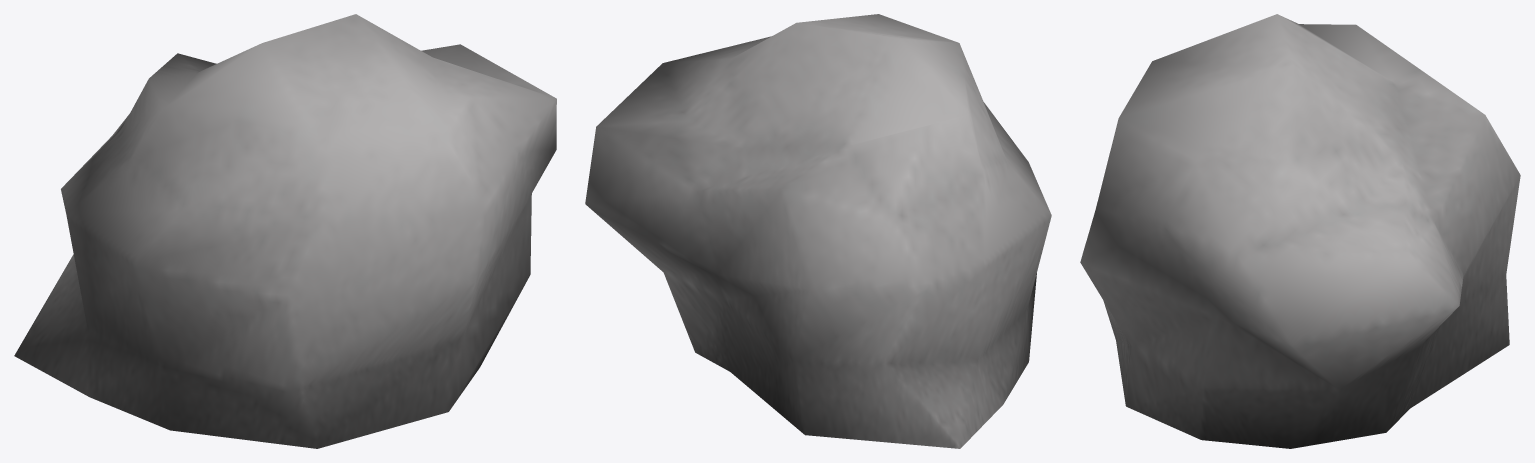
The model's file is Rock_05.fbx.
3 renders of one model, left to right at view 1: azimuth 30°, elevation 25°; view 2: azimuth 150°, elevation 25°; view 3: azimuth 270°, elevation 25°, orthographic. The views are drawn at different scales.
Visible parts, largest first — view 1: Rock_013; view 2: Rock_013; view 3: Rock_013.
Boxes of the visible parts, x1,y1,x2,y2 form: Rock_013: (14, 14, 556, 448); Rock_013: (585, 14, 1051, 448); Rock_013: (1080, 14, 1520, 448).
Bounding box in the file's own units: 0.0705 × 0.0499 × 0.0588.
